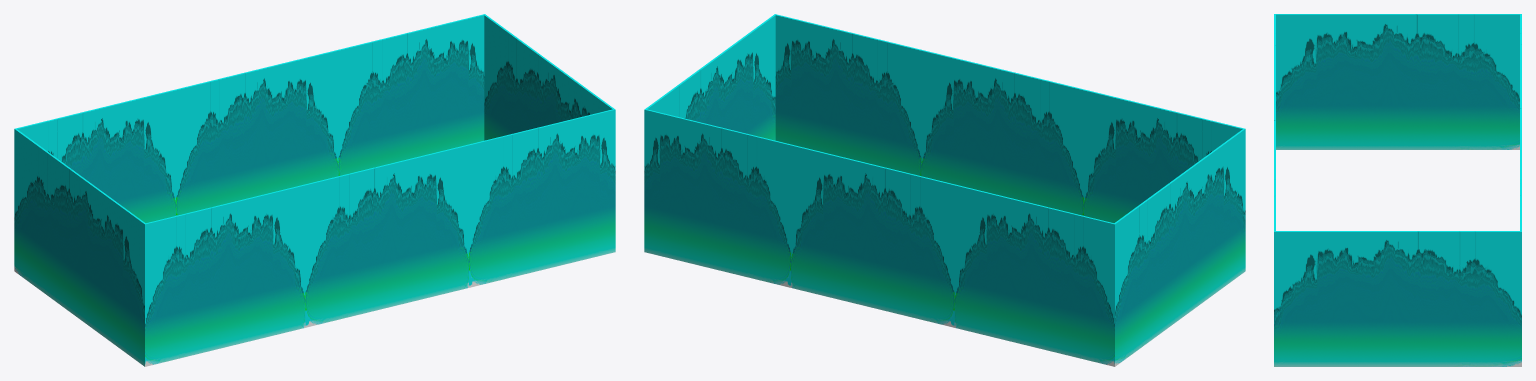
File: parking (1).fbx
3 views of the same model, side by side, from view 1: azimuth 30°, elevation 25°; view 2: azimuth 150°, elevation 25°; view 3: azimuth 270°, elevation 25° (orthographic). The views are drawn at different scales.
Visible parts, largest first — view 1: Plane; view 2: Plane; view 3: Plane.
Boxes of the visible parts, x1,y1,x2,y2 form: Plane: (14,14,615,366); Plane: (644,14,1245,366); Plane: (1274,14,1521,366).
Size of the model in its own units: 505 by 146 by 243.
1 material, 1 textured.
